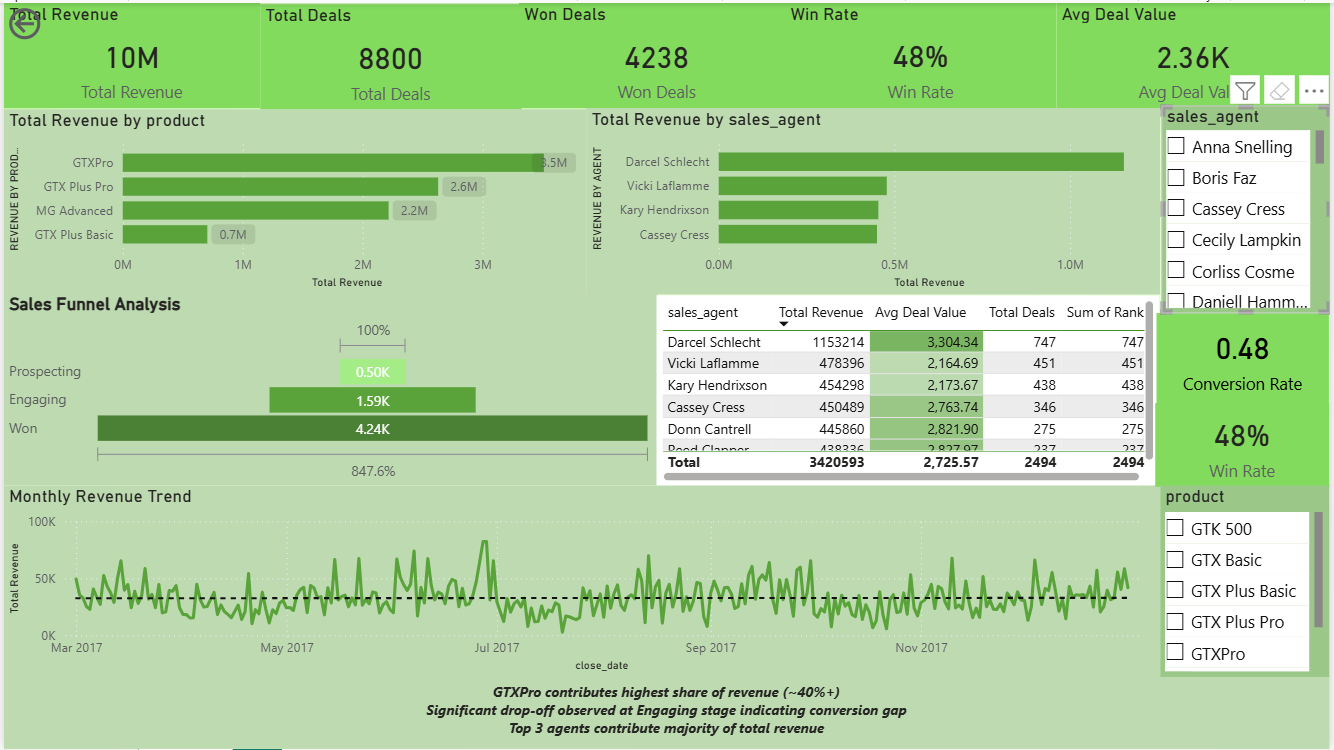

The dashboard page shown, as its layout file describes it:
{"tool":"powerbi","page":{"name":"Page 1","canvas":[1280,720],"ordinal":0},"visuals":[{"type":"card","title":"Total Deals","fields":{"Values":["Salespipelines.Total Deals"]},"box":[247,1.7,252.1,101.9],"z":0},{"type":"card","title":"Total Revenue","fields":{"Values":["Salespipelines.Total Revenue"]},"box":[0,0,247,101.9],"z":1000},{"type":"card","title":"Won Deals","fields":{"Values":["Salespipelines.Won Deals"]},"box":[497.4,0,266,101.9],"z":2000},{"type":"card","title":"Avg Deal Value","fields":{"Values":["Salespipelines.Avg Deal Value"]},"box":[1015.5,0,264.2,101.9],"z":3000},{"type":"card","title":"Win Rate","fields":{"Values":["Salespipelines.Win Rate"]},"box":[754.3,0,261.4,101.4],"z":4000},{"type":"clusteredBarChart","fields":{"Category":["Salespipelines.product"],"Y":["Salespipelines.Total Revenue"]},"box":[0,102.5,562.2,178.6],"z":5000},{"type":"clusteredBarChart","fields":{"Category":["Salespipelines.sales_agent"],"Y":["Salespipelines.Total Revenue"]},"box":[562.2,101.3,553.8,179.8],"z":6000},{"type":"funnel","title":"Sales Funnel Analysis","fields":{"Category":["Salespipelines.deal_stage"],"Y":["CountNonNull(Salespipelines.opportunity_id)"]},"box":[0,279.7,631.3,185.9],"z":7000},{"type":"tableEx","fields":{"Values":["Salespipelines.sales_agent","Salespipelines.Total Revenue","Salespipelines.Avg Deal Value","Salespipelines.Total Deals","Sum(Salespipelines.Rank)"]},"box":[629.8,282.3,485,184.6],"z":8000},{"type":"actionButton","box":[0,0,100,40],"z":9000},{"type":"lineChart","title":"Monthly Revenue Trend","fields":{"Y":["Salespipelines.Total Revenue"],"Category":["Salespipelines.close_date"]},"box":[0,465.7,1116,184.6],"z":10000},{"type":"textbox","box":[0,650.3,1278.8,70],"z":11000},{"type":"card","fields":{"Values":["Salespipelines.Conversion Rate"]},"box":[1112.3,299.2,166.5,86.9],"z":12000},{"type":"card","title":"Win Rate","fields":{"Values":["Salespipelines.Win Rate"]},"box":[1111.1,386.1,167.7,80.8],"z":13000},{"type":"listSlicer","fields":{"Values":["Salespipelines.product"]},"box":[1116,465.7,162.9,184.6],"z":14000},{"type":"listSlicer","fields":{"Values":["Salespipelines.sales_agent"]},"box":[1117.2,98.9,162.9,200.3],"z":15000}]}

Visuals, with their boxes in screenshot pixels (x1, y1, x2, y2), scaled from the page's 1280x720 canvas onto the 1334x750 screenshot:
"Total Deals" card: 257,2,520,108
"Total Revenue" card: 0,0,257,106
"Won Deals" card: 518,0,796,106
"Avg Deal Value" card: 1058,0,1333,106
"Win Rate" card: 786,0,1059,106
clusteredBarChart - Salespipelines.product x Salespipelines.Total Revenue: 0,107,586,293
clusteredBarChart - Salespipelines.sales_agent x Salespipelines.Total Revenue: 586,106,1163,293
"Sales Funnel Analysis" funnel: 0,291,658,485
tableEx - Salespipelines.sales_agent x Salespipelines.Total Revenue: 656,294,1162,486
actionButton: 0,0,104,42
"Monthly Revenue Trend" lineChart: 0,485,1163,677
textbox: 0,677,1333,749
card - Salespipelines.Conversion Rate: 1159,312,1333,402
"Win Rate" card: 1158,402,1333,486
listSlicer - Salespipelines.product: 1163,485,1333,677
listSlicer - Salespipelines.sales_agent: 1164,103,1333,312
